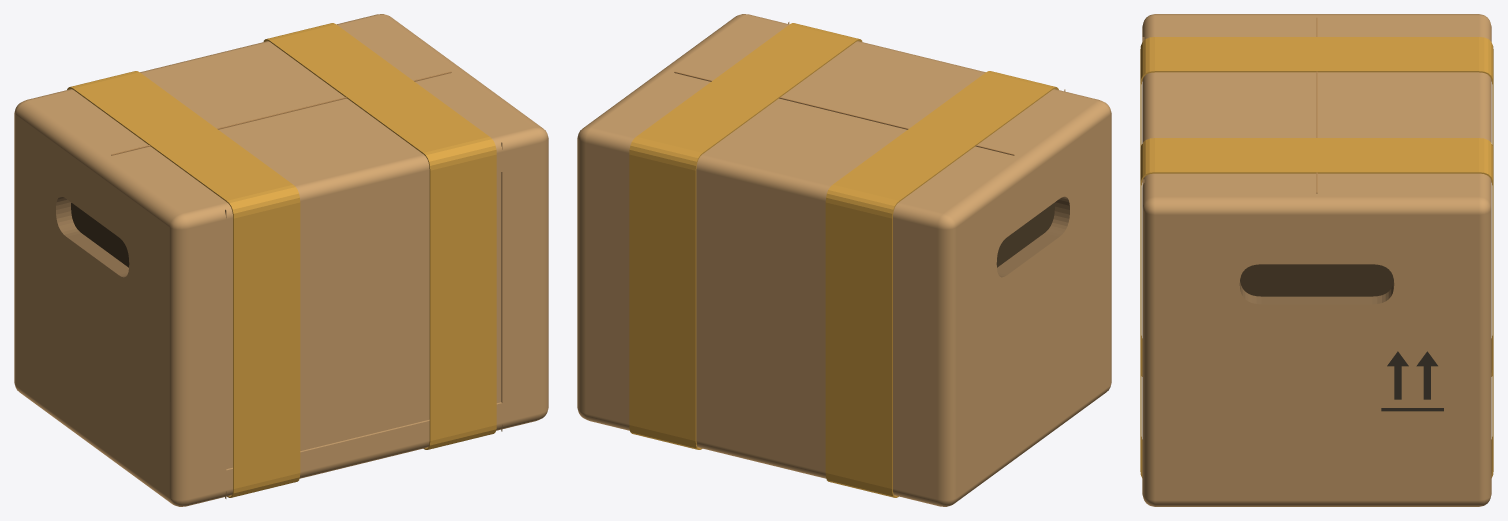
Rendered from play-parcel-large-yellow.glb.
3 views of the same model, side by side, from view 1: azimuth 30°, elevation 25°; view 2: azimuth 150°, elevation 25°; view 3: azimuth 270°, elevation 25° (orthographic). The views are drawn at different scales.
Parts seen in each view (by area): view 1: Parcel_Carton, Parcel_Tape_Parallel_2, Parcel_Tape_Parallel_1, Parcel_Carry_Slot_Walls_Negative_X, Parcel_Carry_Slot_Interior_Negative_X; view 2: Parcel_Carton, Parcel_Tape_Parallel_2, Parcel_Tape_Parallel_1, Parcel_Carry_Slot_Walls_Negative_X, Parcel_Carry_Slot_Interior_Negative_X; view 3: Parcel_Carton, Parcel_Tape_Parallel_2, Parcel_Tape_Parallel_1, Parcel_Carry_Slot_Interior_Positive_X, Parcel_Carry_Slot_Walls_Positive_X, Parcel_Up_Arrows_Positive_X.
Part boxes in pixels (x1,y1,x2,y2): Parcel_Carton: (14, 14, 548, 506); Parcel_Tape_Parallel_2: (263, 23, 496, 449); Parcel_Tape_Parallel_1: (67, 71, 300, 497); Parcel_Carry_Slot_Walls_Negative_X: (56, 196, 128, 277); Parcel_Carry_Slot_Interior_Negative_X: (71, 203, 129, 267); Parcel_Carton: (577, 14, 1111, 506); Parcel_Tape_Parallel_2: (629, 23, 862, 449); Parcel_Tape_Parallel_1: (825, 71, 1058, 497); Parcel_Carry_Slot_Walls_Negative_X: (997, 196, 1069, 277); Parcel_Carry_Slot_Interior_Negative_X: (996, 203, 1054, 267); Parcel_Carton: (1142, 14, 1491, 506); Parcel_Tape_Parallel_2: (1140, 138, 1493, 477); Parcel_Tape_Parallel_1: (1140, 37, 1493, 376); Parcel_Carry_Slot_Interior_Positive_X: (1240, 264, 1393, 296); Parcel_Carry_Slot_Walls_Positive_X: (1239, 282, 1394, 304); Parcel_Up_Arrows_Positive_X: (1381, 351, 1443, 411).
Size of the model in its own units: 0.2503 by 0.187 by 0.192.
